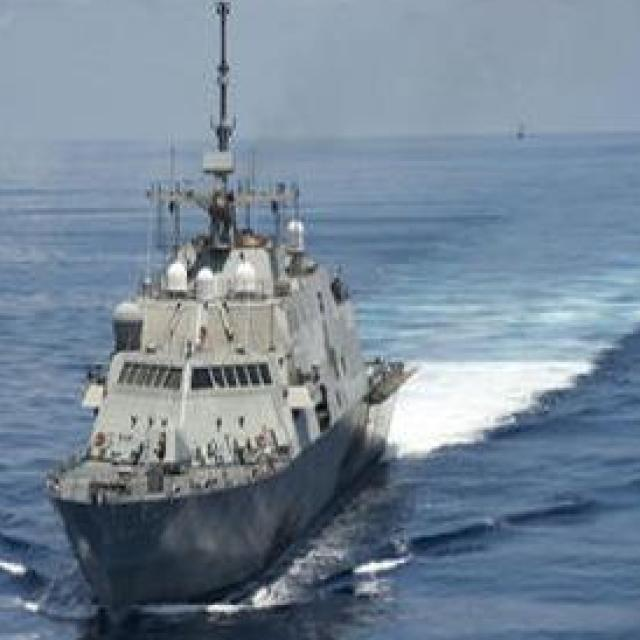navalvessels: (44, 0, 413, 593)
